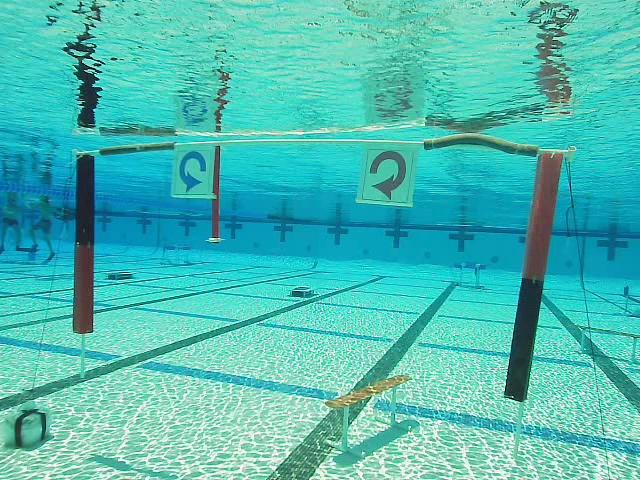dropper: (289, 284, 314, 298), (105, 270, 134, 281)
gate: (72, 134, 572, 403)
gate_blue: (172, 144, 215, 197)
gate_leg_l: (71, 150, 96, 335)
gate_leg_r: (504, 148, 572, 402)
gate_red: (361, 147, 417, 205)
table: (455, 262, 486, 290), (162, 242, 192, 265)
